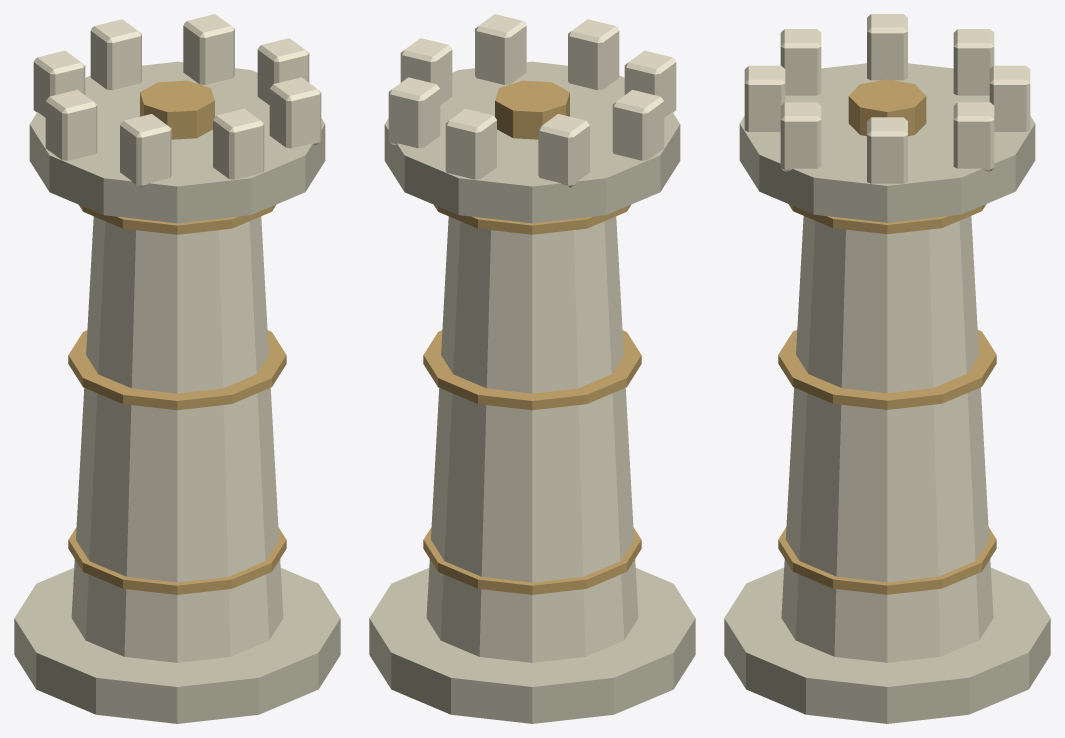
File: island_tower.glb
3 renders of one model, left to right at view 1: azimuth 30°, elevation 25°; view 2: azimuth 150°, elevation 25°; view 3: azimuth 270°, elevation 25°, orthographic.
Visible parts, largest first — view 1: Island tower — universal crystal socket; view 2: Island tower — universal crystal socket; view 3: Island tower — universal crystal socket.
Part boxes in pixels (box(x1,y1,x2,y2)): Island tower — universal crystal socket: box(14, 14, 340, 723); Island tower — universal crystal socket: box(369, 14, 695, 723); Island tower — universal crystal socket: box(724, 14, 1050, 723).
Bounding box in the file's own units: 3.2 × 6.3 × 3.2.
